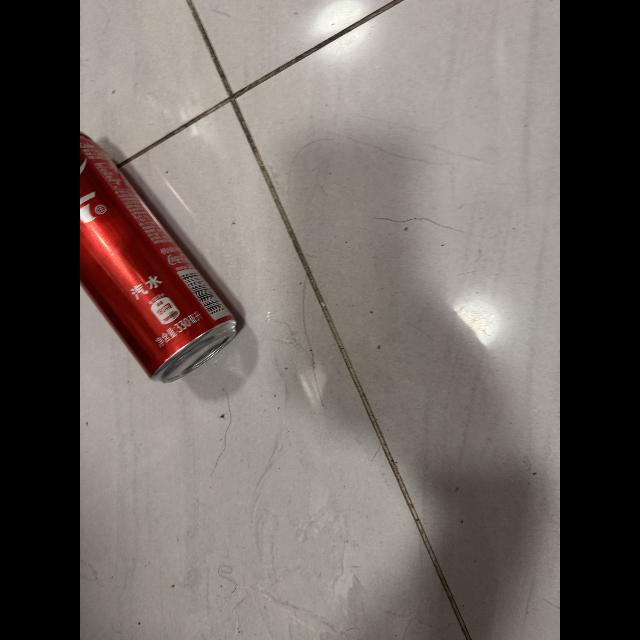Cola: (83, 114, 251, 396)
